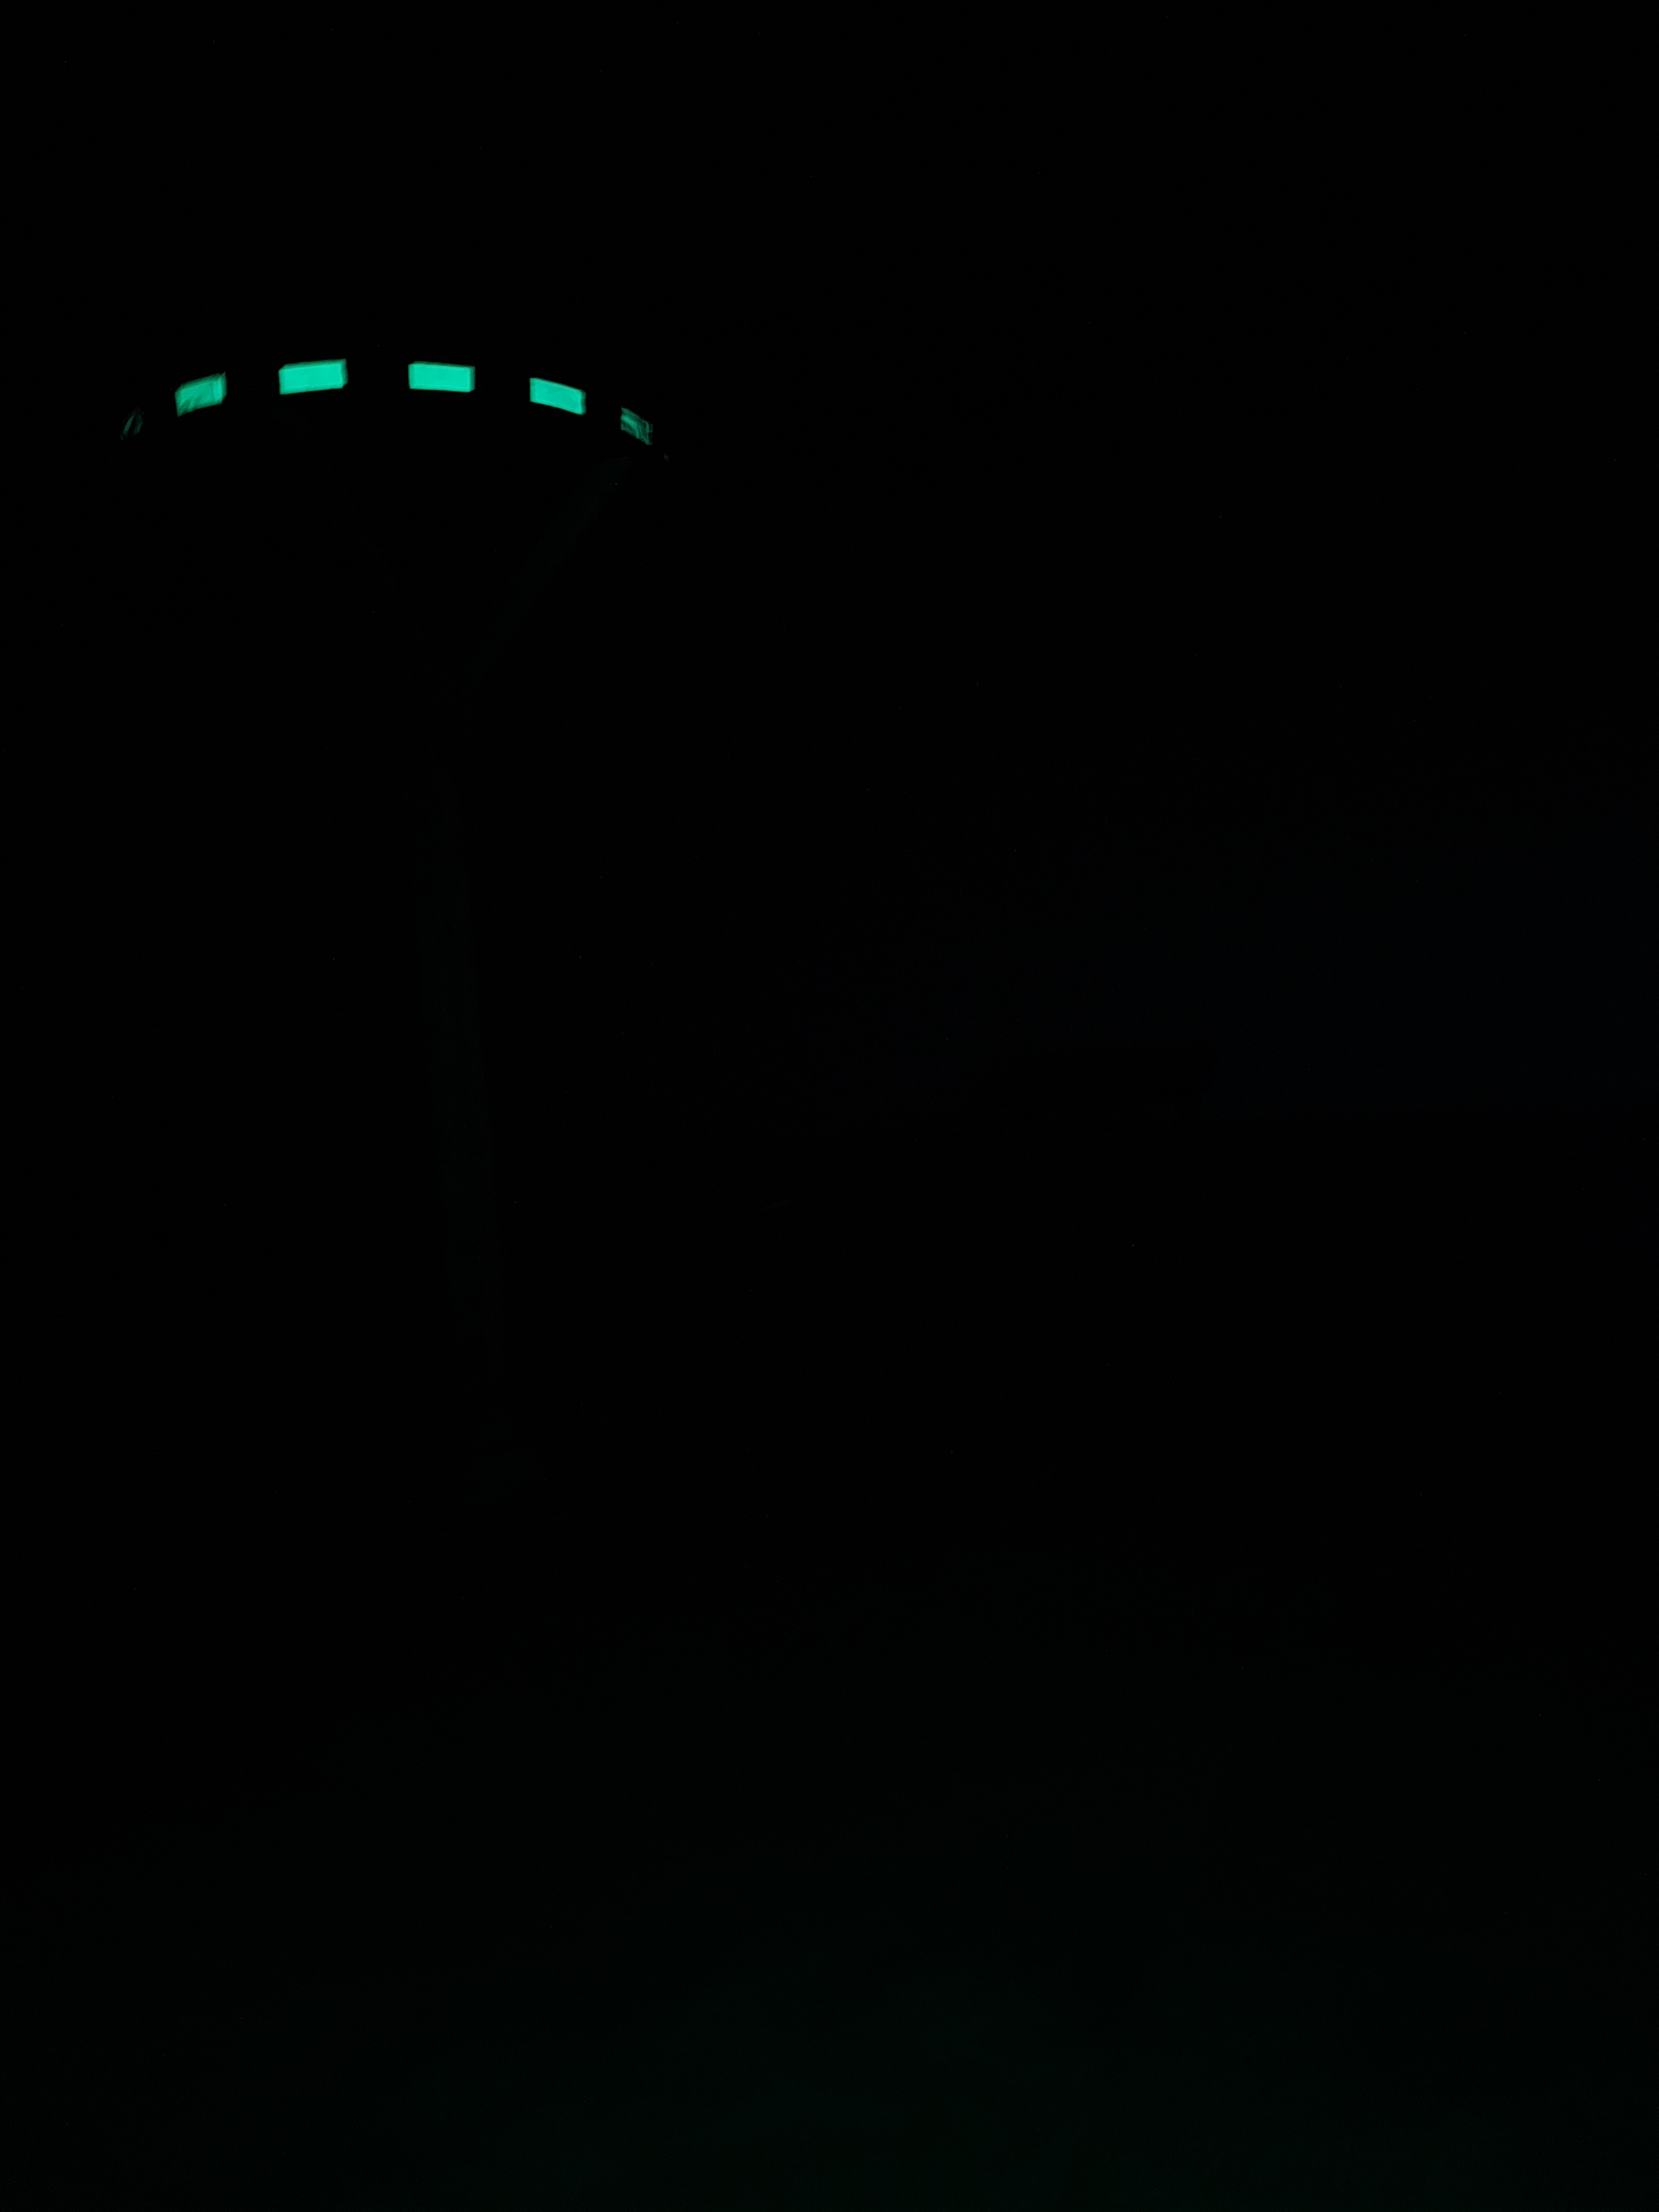hoop: (112, 359, 655, 462)
